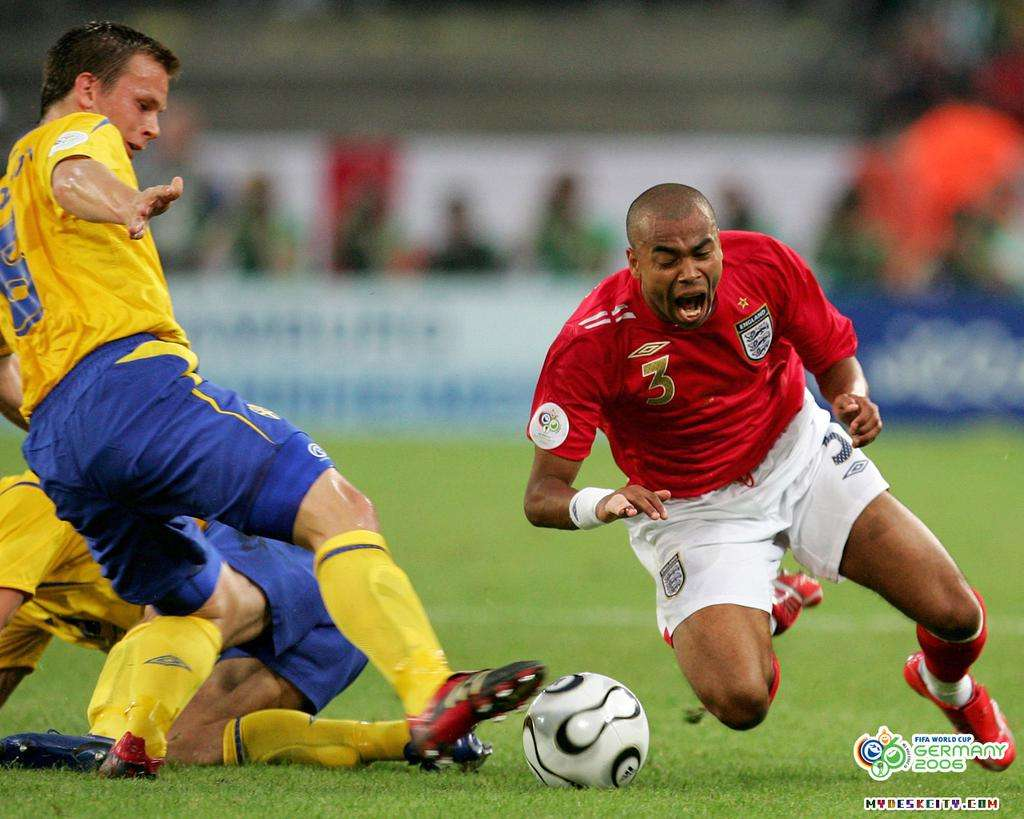football: (517, 669, 651, 789)
